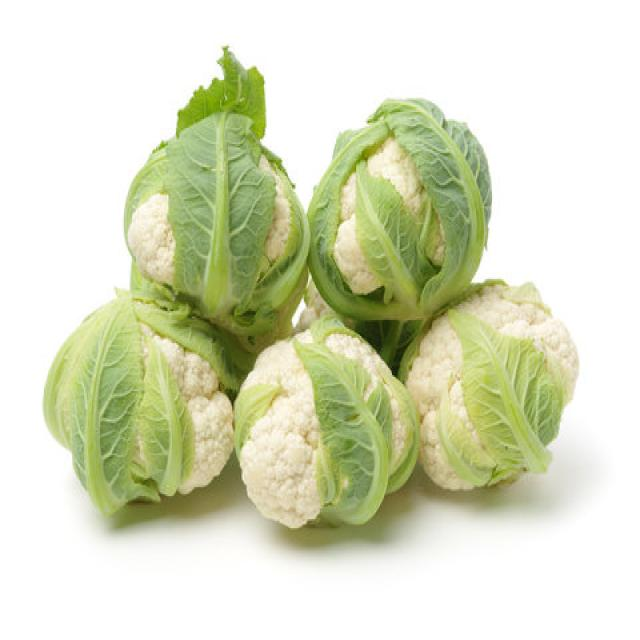Cabbage: (41, 286, 236, 518), (305, 94, 492, 329), (136, 84, 292, 336), (401, 288, 575, 490), (244, 330, 407, 511)
